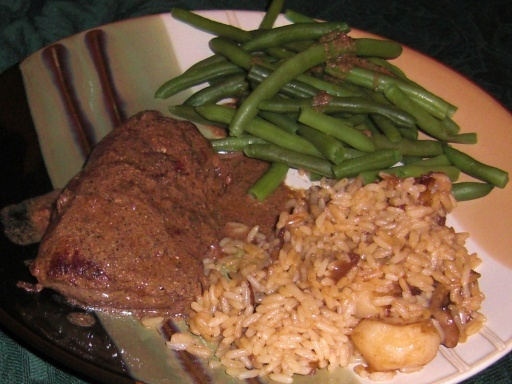background: (13, 0, 406, 230)
